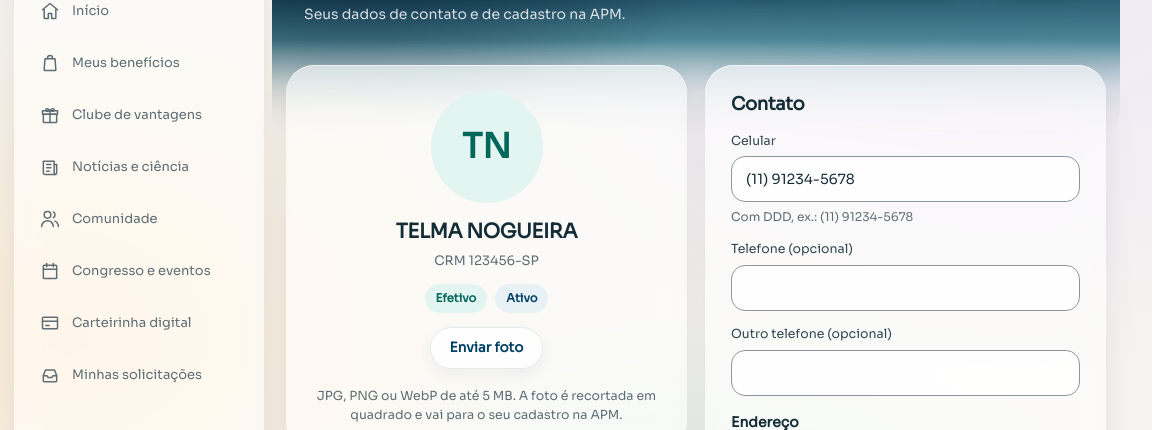
Scenario: Meu perfil (RF-PE) › salva só os campos alterados, com CSRF, e mostra erro no campo
Type "123" into the field labelled "Telefone (opcional)" at (906, 288), box [731,265,1080,311]
(page scrolled)
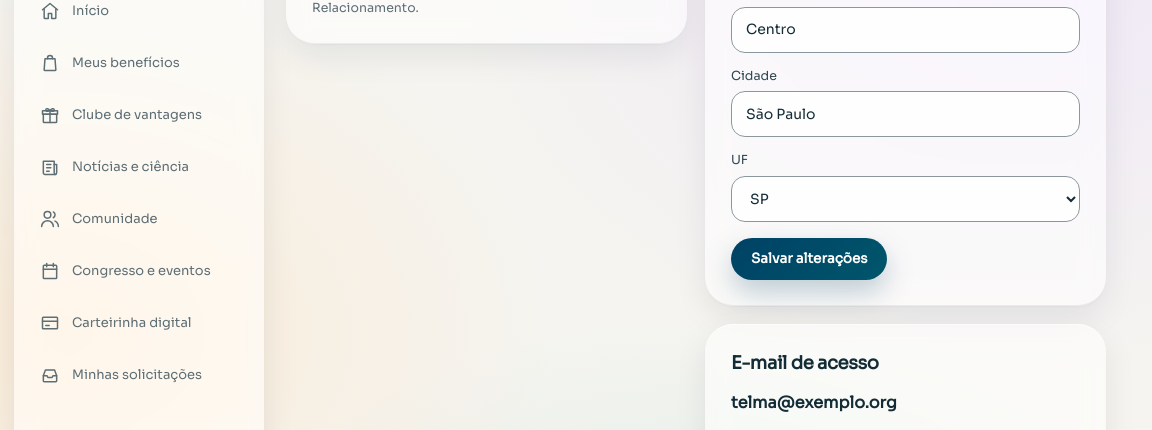
Click the button "Salvar alterações" at (809, 259), box [731,238,888,280]
(page scrolled)
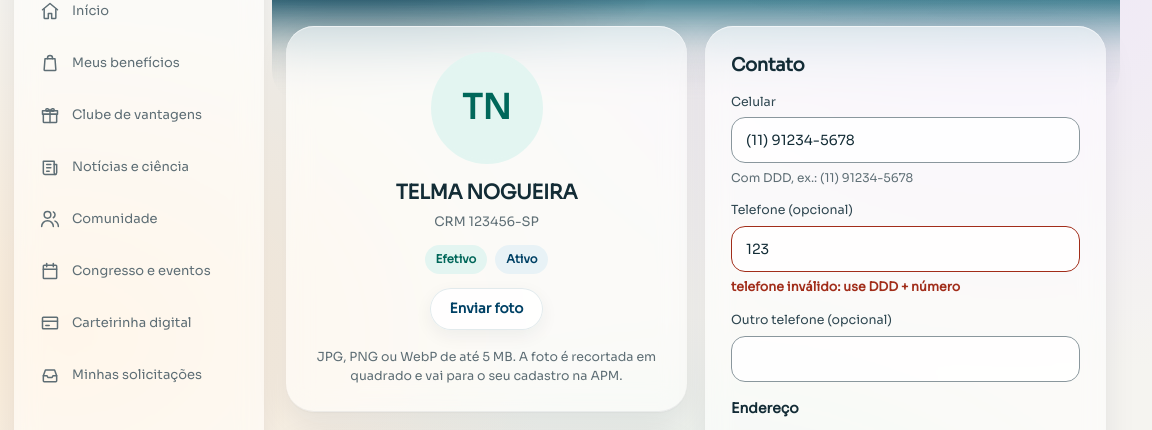
Now the text "telefone inválido: use DDD + número" is shown, box [731,279,960,295]
